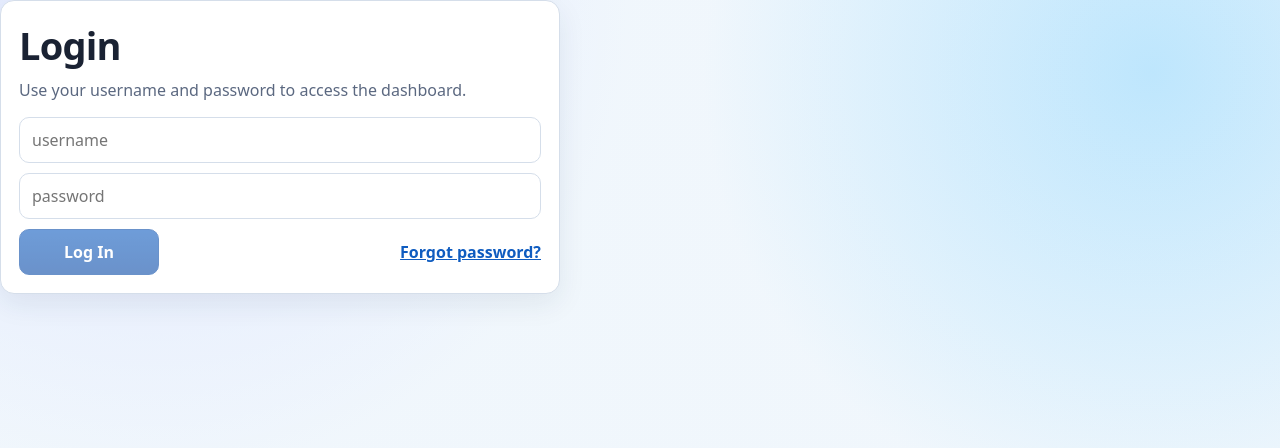
Test: LoginPage › shows API error for wrong credentials
The width and height of the screenshot is (1280, 448).
In the field with placeholder "username": (280, 140) x1=19 y1=117 x2=541 y2=163, type "araj"
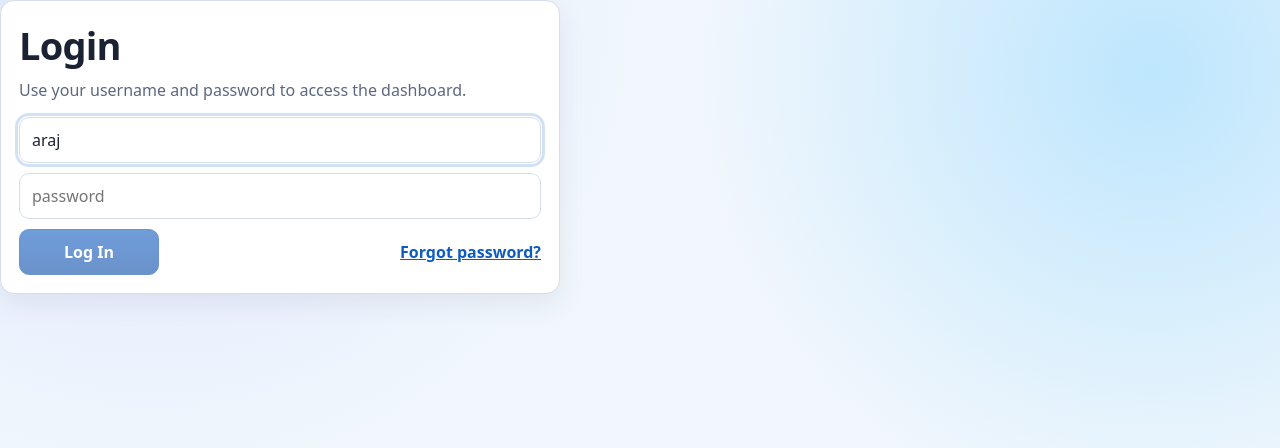
In the password field with placeholder "password": (280, 196) x1=19 y1=173 x2=541 y2=219, type "!23"
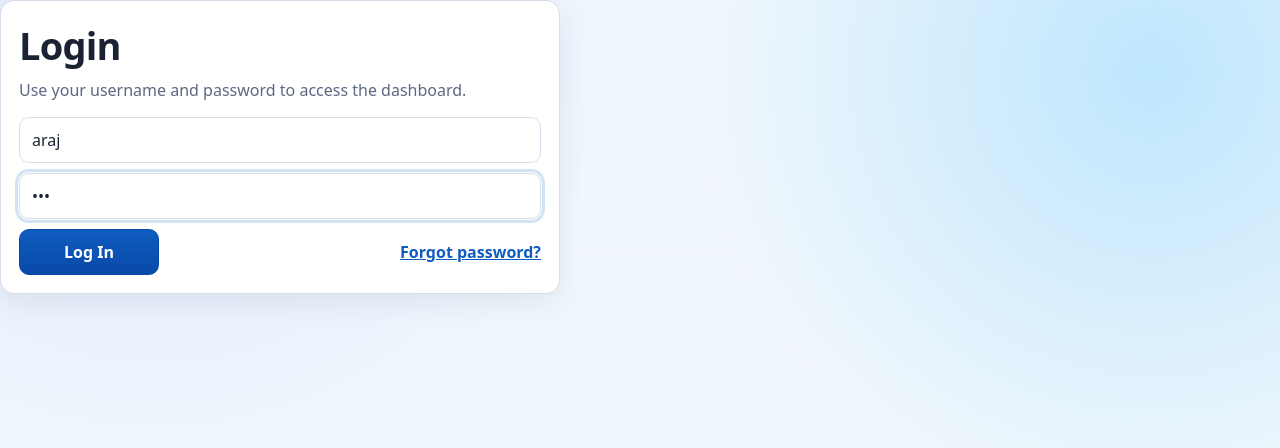
Click the button "Log In": (89, 252) x1=19 y1=229 x2=159 y2=275
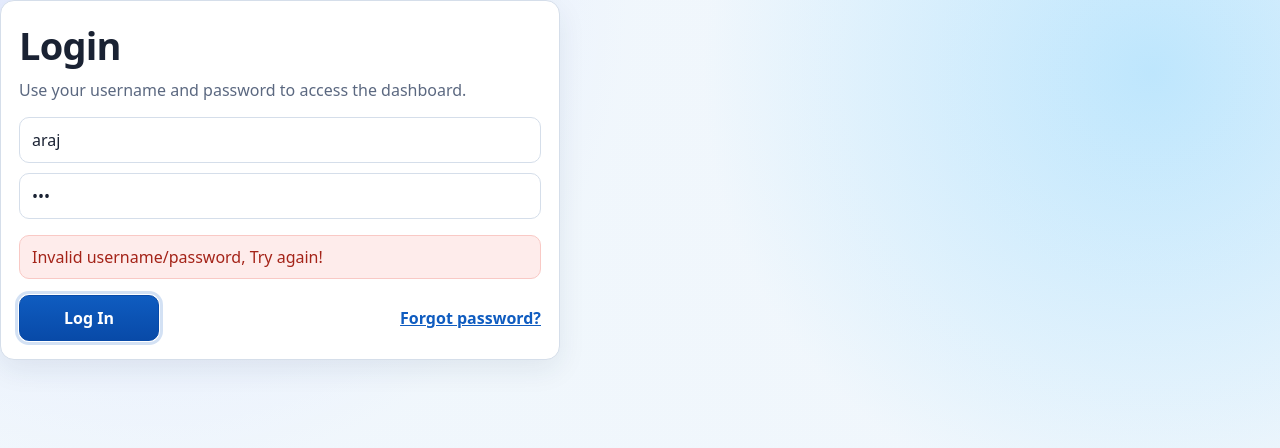
Expected: the text "Invalid username/password, Try again!" is shown, x1=19 y1=235 x2=541 y2=279
